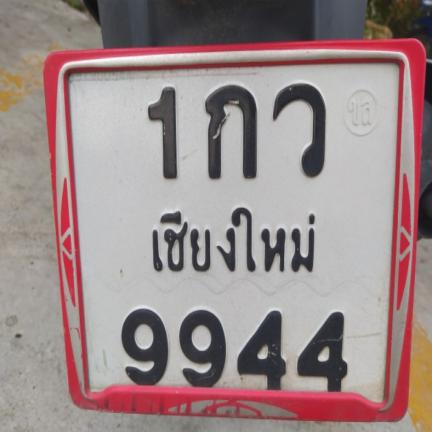1: (141, 79, 185, 177)
4: (295, 303, 354, 392), (233, 304, 292, 392)
9: (174, 305, 228, 388), (116, 306, 170, 387)
A01: (197, 81, 259, 179)
A37: (270, 80, 331, 181)
CMI: (139, 196, 322, 284)
